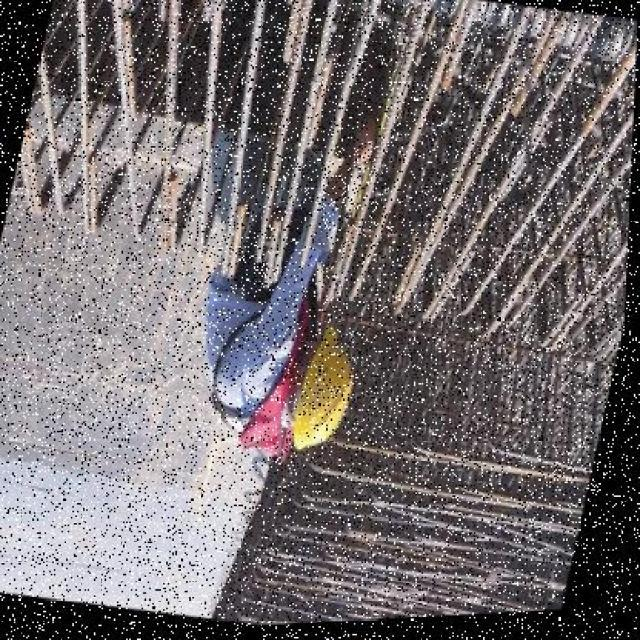helmet: (285, 319, 365, 468)
